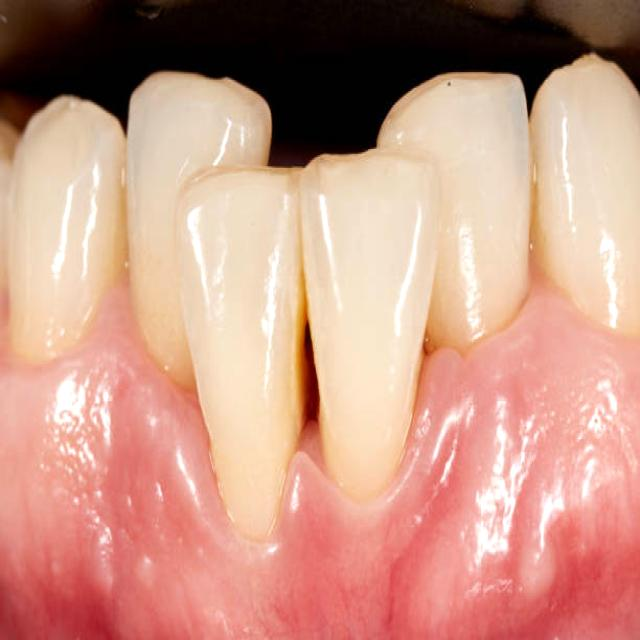gingivitis: (0, 334, 628, 595)
